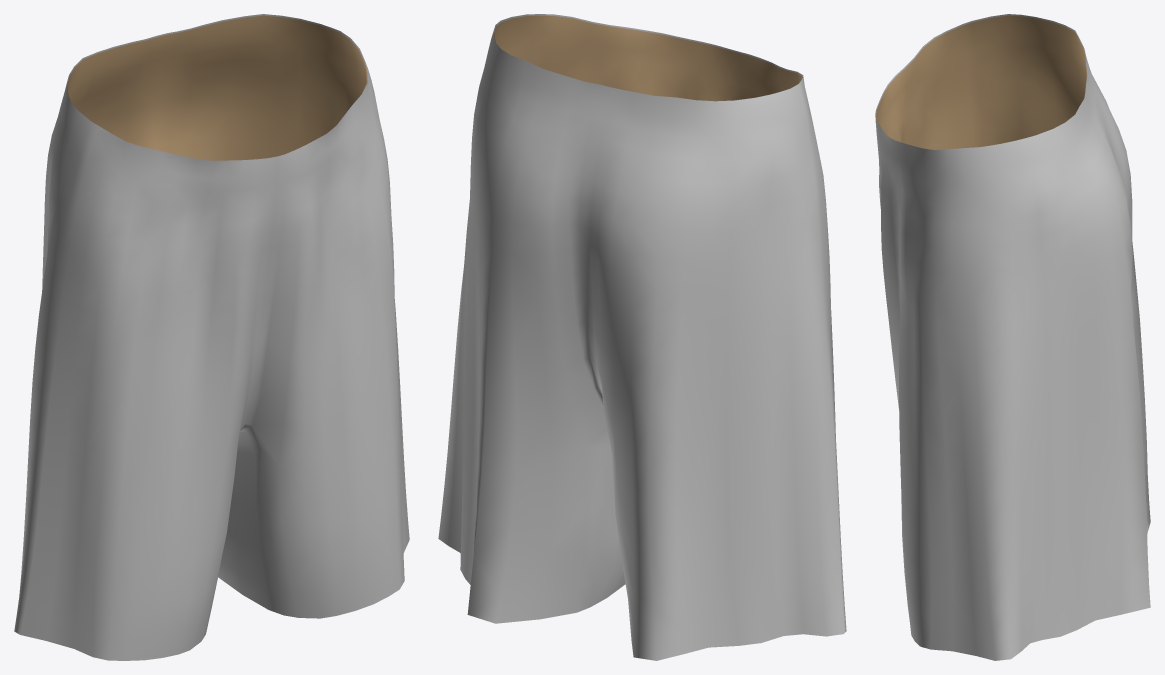
File: 7R3VTB.glb
The picture shows the model from 3 angles, left to right: view 1: azimuth 30°, elevation 25°; view 2: azimuth 150°, elevation 25°; view 3: azimuth 270°, elevation 25°; orthographic projection. The views are drawn at different scales.
Parts seen in each view (by area): view 1: 7R3VTB; view 2: 7R3VTB; view 3: 7R3VTB.
Boxes of the visible parts, x1,y1,x2,y2 form: 7R3VTB: [14, 14, 409, 660]; 7R3VTB: [438, 14, 846, 660]; 7R3VTB: [875, 14, 1150, 660].
Bounding box in the file's own units: 0.7409 × 0.9748 × 0.4726.
